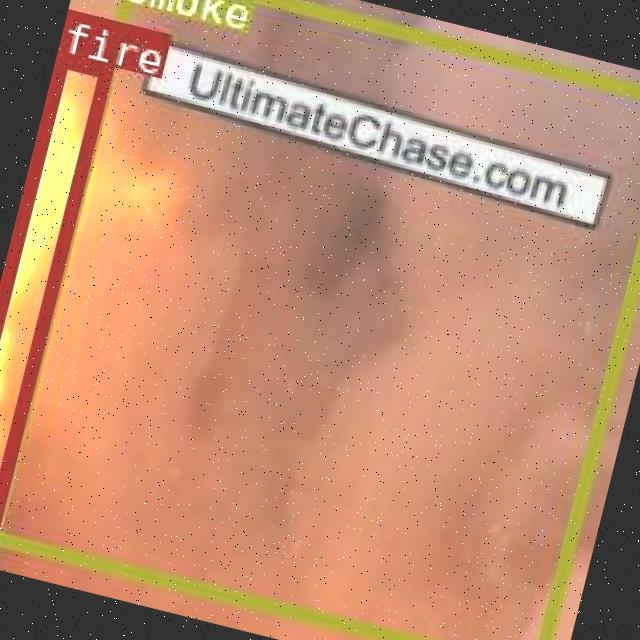fire: (0, 49, 110, 528)
smoke: (0, 0, 640, 640)
